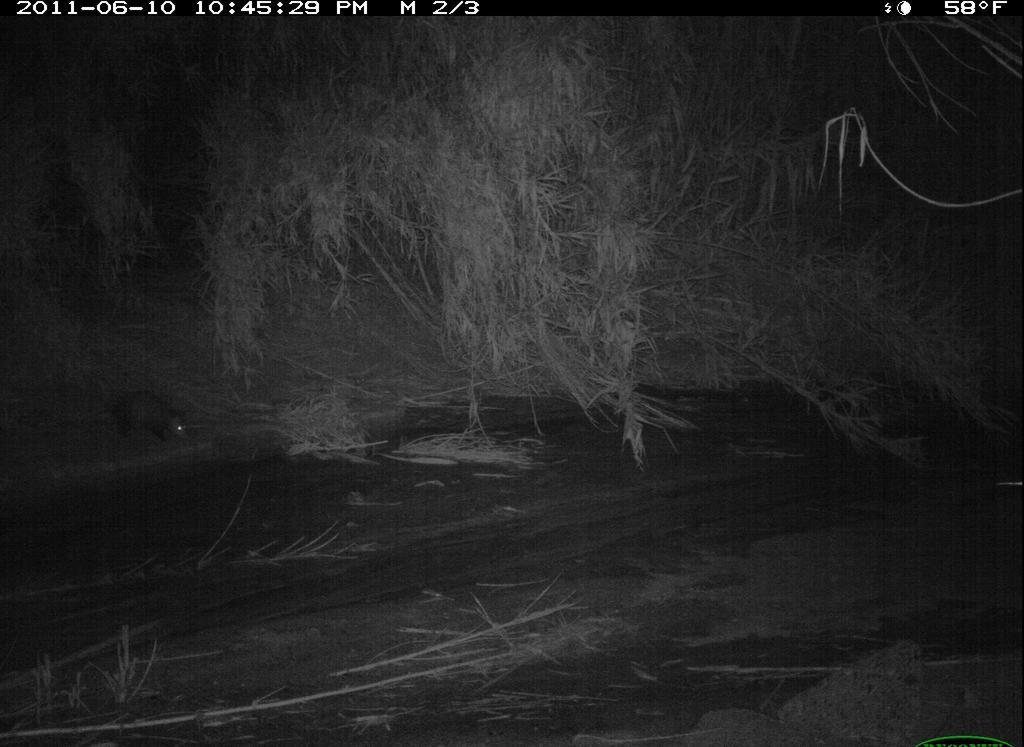opossum: (77, 385, 212, 455)
